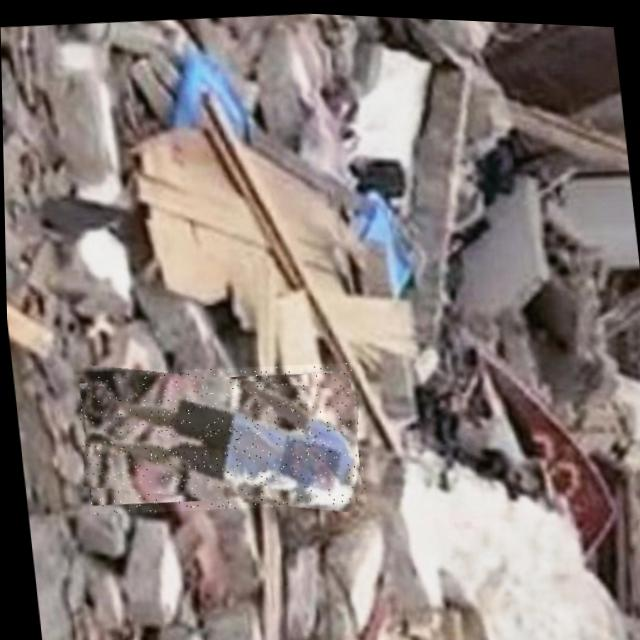Person in Rubble: (72, 349, 363, 523)
